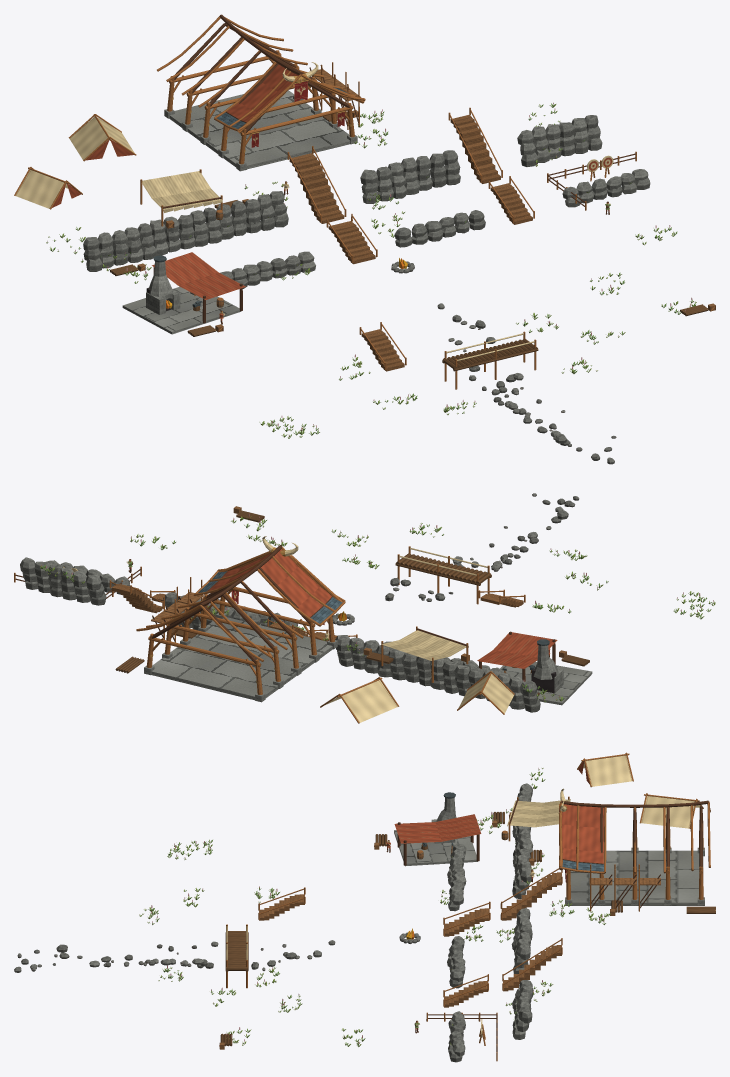
File: phase_1.glb
3 renders of one model, top to bottom at view 1: azimuth 30°, elevation 25°; view 2: azimuth 150°, elevation 25°; view 3: azimuth 270°, elevation 25°, orthographic. The views are drawn at different scales.
Parts seen in each view (by area): view 1: Praca_pontes_escadas_F1, hall_F1, forge_F1, store_F1, house_a_F1, house_b_F1, training_F1; view 2: hall_F1, Praca_pontes_escadas_F1, forge_F1, store_F1, house_a_F1, house_b_F1; view 3: Praca_pontes_escadas_F1, hall_F1, forge_F1, house_b_F1, store_F1, house_a_F1.
Boxes of the visible parts, x1,y1,x2,y2 form: Praca_pontes_escadas_F1: (46, 102, 715, 464); hall_F1: (157, 14, 365, 171); forge_F1: (122, 252, 245, 334); store_F1: (140, 169, 223, 228); house_a_F1: (68, 114, 136, 161); house_b_F1: (14, 167, 82, 209); training_F1: (547, 151, 636, 210); hall_F1: (115, 536, 345, 702); Praca_pontes_escadas_F1: (20, 493, 715, 712); forge_F1: (477, 631, 592, 705); store_F1: (381, 626, 469, 682); house_a_F1: (320, 677, 399, 723); house_b_F1: (457, 671, 514, 714); Praca_pontes_escadas_F1: (14, 768, 622, 1062); hall_F1: (558, 788, 715, 913); forge_F1: (394, 792, 481, 866); house_b_F1: (577, 752, 633, 787); store_F1: (501, 796, 570, 841); house_a_F1: (639, 793, 703, 828).
Size of the model in its own units: 82.12 by 25.5 by 95.27.
1 material, 1 textured.
